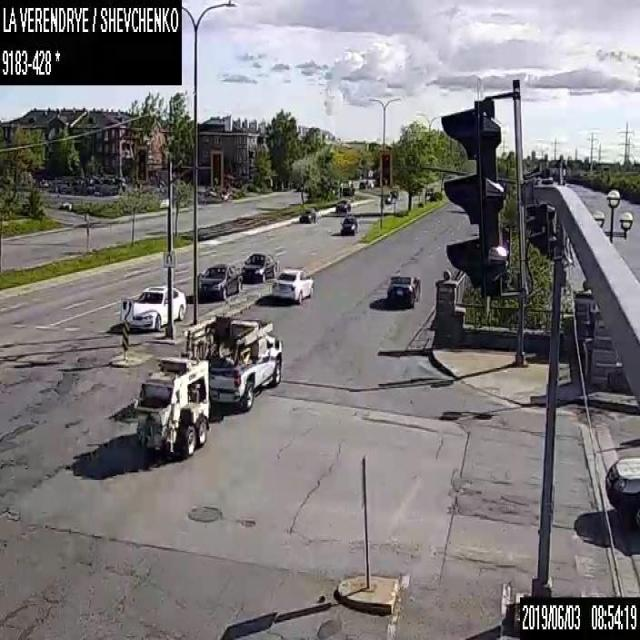vehicle: (132, 314, 283, 458), (128, 284, 186, 329), (605, 454, 639, 530), (195, 262, 242, 300), (272, 268, 314, 302), (385, 274, 420, 306), (242, 252, 276, 281), (340, 216, 357, 235), (298, 208, 316, 221), (334, 199, 350, 212), (383, 193, 392, 203)
